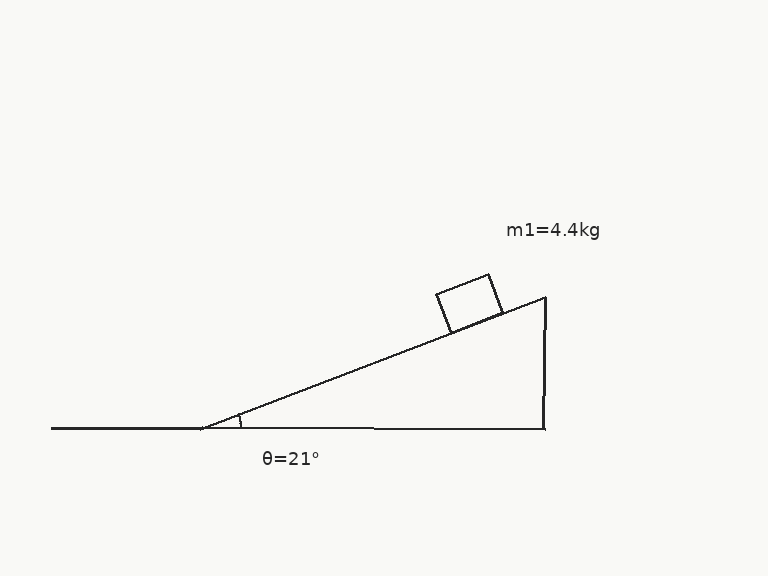block: (434, 272, 504, 334)
ramp: (199, 294, 547, 430)
